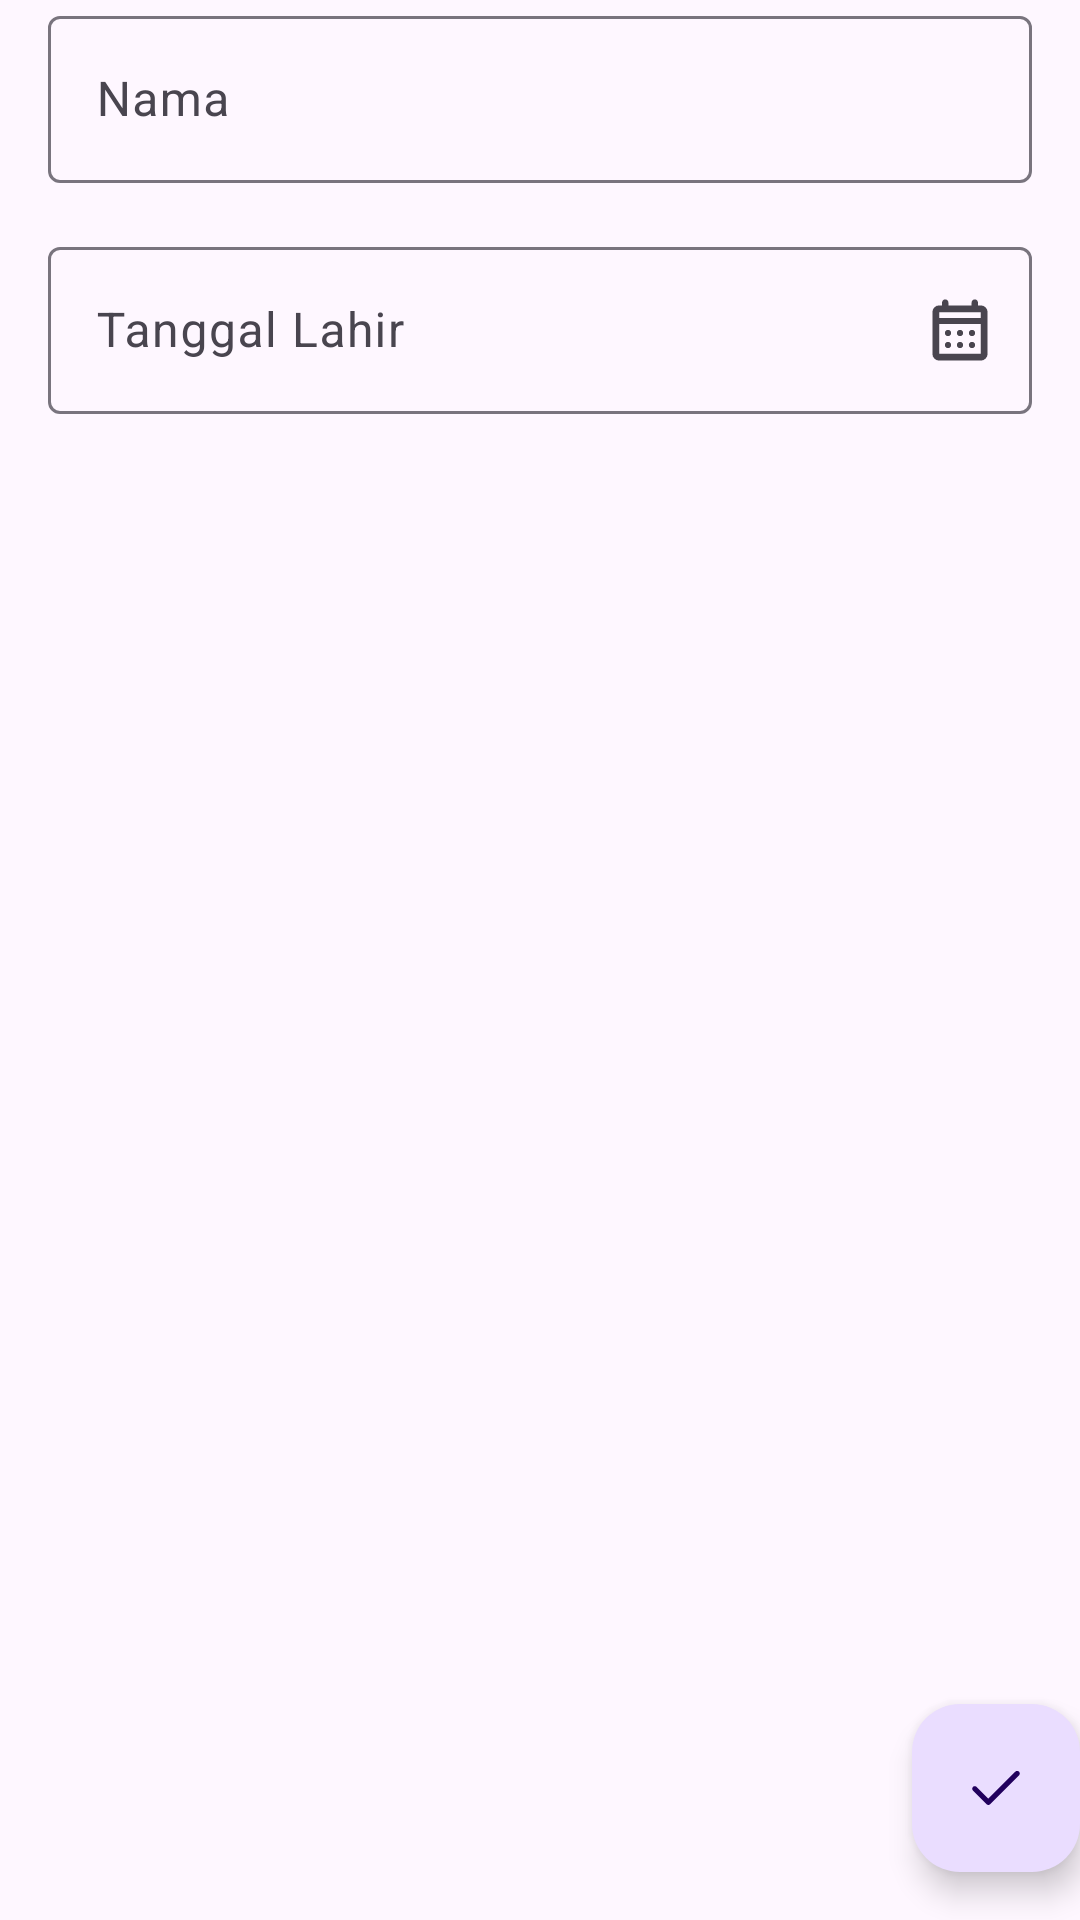

Icons on this 1080*1920 Android screen, each with its box as (x1, y1, x2, y2):
done: (912, 1704, 1080, 1872)
